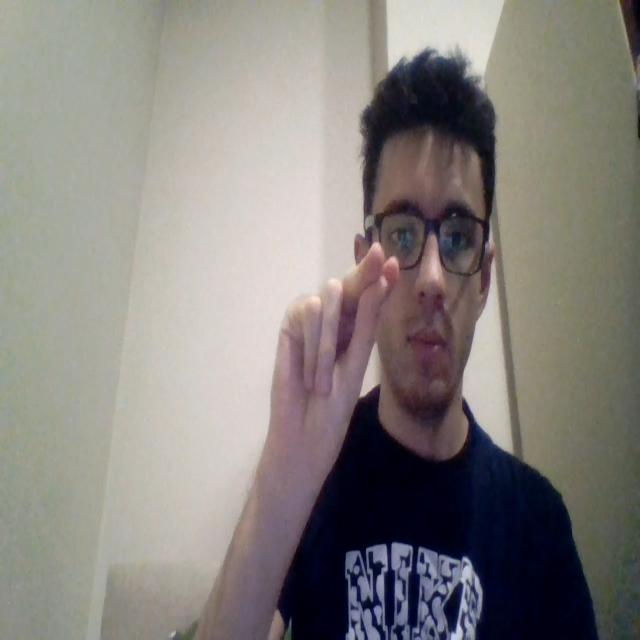no: (262, 237, 400, 493)
